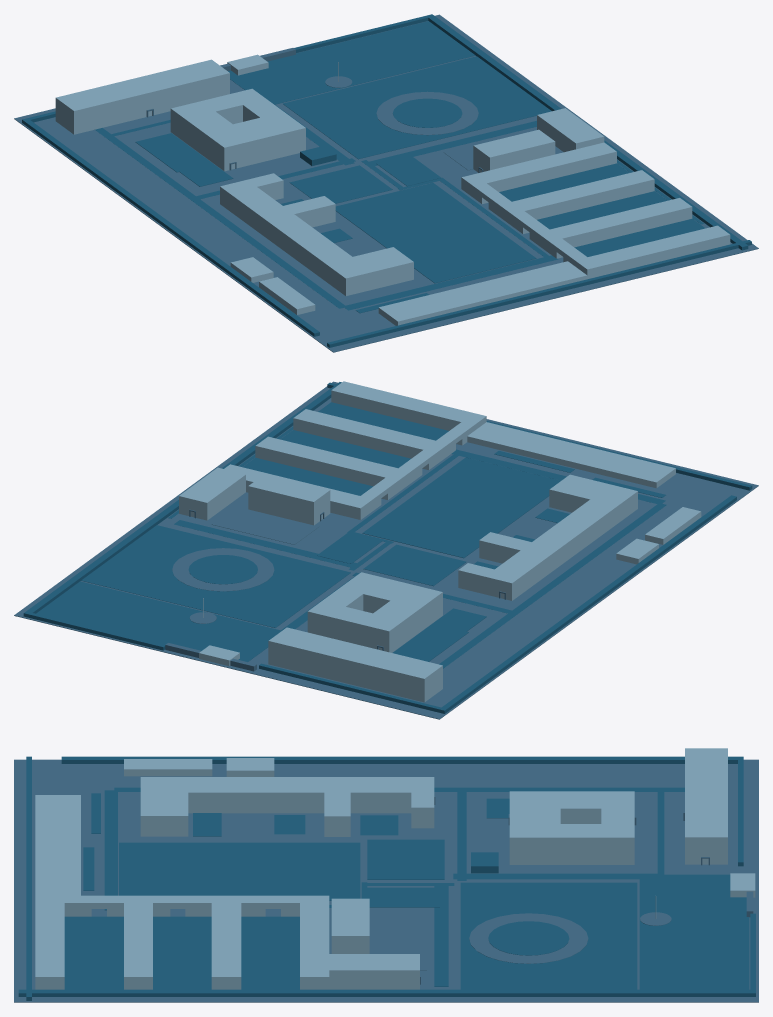
File: Uni_plan.glb
The picture shows the model from 3 angles, top to bottom: view 1: azimuth 30°, elevation 25°; view 2: azimuth 150°, elevation 25°; view 3: azimuth 270°, elevation 25°; orthographic projection. The views are drawn at different scales.
Visible parts, largest first — view 1: Buildings, Ground, Grass, Pitch, Path, Parking, Walls, Paving, Mosque; view 2: Buildings, Ground, Grass, Pitch, Path, Parking, Walls, Paving, Mosque, Gates; view 3: Buildings, Ground, Grass, Path, Pitch, Walls, Parking, Paving, Mosque, Cafe, Gates.
Boxes of the visible parts, x1,y1,x2,y2 form: Buildings: (55, 54, 730, 315); Ground: (14, 14, 758, 352); Grass: (281, 56, 551, 313); Pitch: (135, 133, 536, 283); Path: (95, 104, 705, 310); Parking: (228, 21, 475, 104); Walls: (22, 14, 751, 347); Paving: (325, 76, 526, 170); Mosque: (378, 298, 437, 325); Buildings: (179, 381, 701, 702); Ground: (14, 381, 758, 719); Grass: (81, 450, 665, 627); Pitch: (362, 457, 560, 661); Path: (168, 402, 666, 668); Parking: (36, 581, 281, 661); Walls: (23, 382, 752, 713); Paving: (172, 506, 318, 623); Mosque: (617, 458, 675, 488); Gates: (165, 509, 505, 671); Buildings: (35, 748, 755, 989); Ground: (14, 759, 758, 1002); Grass: (83, 793, 637, 989); Path: (64, 787, 684, 989); Pitch: (119, 798, 509, 900); Walls: (18, 756, 755, 1000); Parking: (639, 874, 749, 989); Paving: (369, 912, 671, 970); Mosque: (35, 795, 80, 817); Cafe: (471, 852, 498, 873); Gates: (420, 793, 753, 984).
Size of the model in its own units: 264 by 14.3 by 343.
